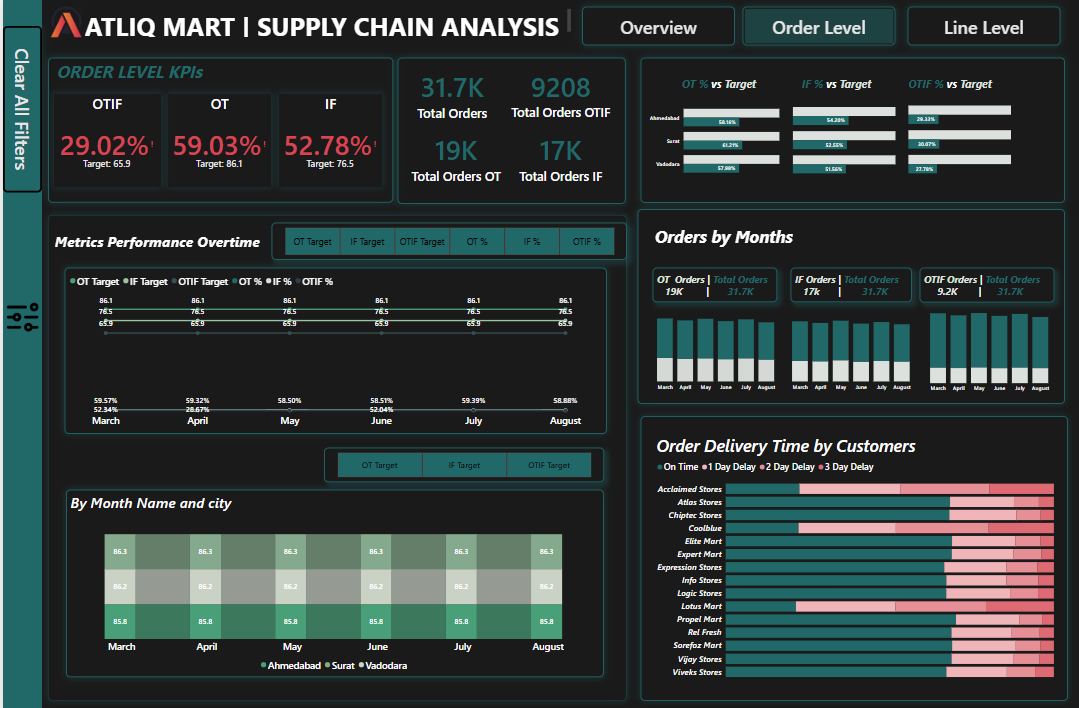

Layout of this report page (visuals, bound fields, positions):
{"tool":"powerbi","page":{"name":"Page 2","canvas":[2400,1600],"ordinal":1},"visuals":[{"type":"kpi","title":"OTIF","fields":{"TrendLine":["fact_order_lines.customer_id"],"Indicator":["DAX.OTIF %"],"Goal":["DAX.Avg OTIF Target"]},"box":[112.5,217.5,237.5,207.5],"z":0,"group":"g1"},{"type":"kpi","title":"OT ","fields":{"TrendLine":["fact_order_lines.customer_id"],"Indicator":["DAX.OT %"],"Goal":["DAX.Avg On-Time Target"]},"box":[365,217.5,230,207.5],"z":1000,"group":"g1"},{"type":"shape","box":[1410,474.4,950,433.3],"z":1000},{"type":"kpi","title":"IF","fields":{"TrendLine":["fact_order_lines.customer_id"],"Indicator":["DAX.IF %"],"Goal":["DAX.Avg In-Full Target"]},"box":[612.5,217.5,230,207.5],"z":2000,"group":"g1"},{"type":"shape","box":[100,485,1285,1080],"z":2000},{"type":"shape","box":[877.5,137.5,507.5,325],"z":3000},{"type":"card","fields":{"Values":["DAX.Total Orders"]},"box":[897.5,152.5,202.5,127.5],"z":4000},{"type":"card","fields":{"Values":["DAX.Total Orders OTIF"]},"box":[1117.5,147.5,245,140],"z":5000},{"type":"shape","box":[0,0,86.7,1600],"z":6000},{"type":"card","fields":{"Values":["DAX.Total Orders IF"]},"box":[1137.5,292.5,205,127.5],"z":7000},{"type":"card","fields":{"Values":["DAX.Total Orders OT"]},"box":[897.5,290,220,135],"z":8000},{"type":"shape","box":[100,137.5,767.5,322.5],"z":9000},{"type":"textbox","box":[112.5,137.5,355,62.5],"z":10000},{"type":"group","id":"g1","title":"Group 2","box":[112.5,217.5,730,207.5],"z":11000},{"type":"image","box":[86.7,16.7,110,80],"z":12000},{"type":"textbox","box":[176.7,21.7,1090,71.7],"z":13000},{"type":"lineChart","title":"OT Performance","fields":{"Y":["DAX.OT Target","DAX.IF Target","DAX.OTIF Target","DAX.OT %","DAX.IF %","DAX.OTIF %"],"Category":["dim_date.Month Name"]},"box":[137.5,602.5,1205,370],"z":15000},{"type":"ribbonChart","title":"By Month Name and city","fields":{"Y":["DAX.OT Target"],"Category":["dim_date.Month Name"],"Series":["dim_customers.city"]},"box":[140,1097.5,1195,417.5],"z":16000},{"type":"slicer","fields":{"Values":["Parameter 3.Parameter"]},"box":[596.7,503.3,790,83.3],"z":17000},{"type":"slicer","fields":{"Values":["Parameter 2.Parameter"]},"box":[712.5,1002.5,622.5,77.5],"z":18000},{"type":"textbox","box":[110,517.5,482.5,55],"z":19000},{"type":"shape","box":[1416.7,136.7,943.3,323.3],"z":20000},{"type":"clusteredBarChart","fields":{"Y":["DAX.OT Target","DAX.OT %"],"Category":["dim_customers.city"]},"box":[1430,216.7,300,203.3],"z":21000},{"type":"clusteredBarChart","fields":{"Category":["dim_customers.city"],"Y":["DAX.IF Target","DAX.IF %"]},"box":[1749.2,233.3,238.3,168.3],"z":22000},{"type":"clusteredBarChart","fields":{"Category":["dim_customers.city"],"Y":["DAX.OTIF Target","DAX.OTIF %"]},"box":[2006.7,230,238.3,171.7],"z":23000},{"type":"textbox","box":[1501.7,171.7,208.3,45],"z":24000},{"type":"textbox","box":[1770,173.8,173.8,42.5],"z":25000},{"type":"textbox","box":[2006.7,173.3,208.3,43.3],"z":26000},{"type":"columnChart","fields":{"Category":["dim_date.Month Name"],"Y":["DAX.Total Orders OT","DAX.Total Orders"]},"box":[1430,678.8,307.5,206.2],"z":27000},{"type":"columnChart","fields":{"Category":["dim_date.Month Name"],"Y":["DAX.Total Orders IF","DAX.Total Orders"]},"box":[1730,678.8,308.8,206.2],"z":28000},{"type":"columnChart","fields":{"Category":["dim_date.Month Name"],"Y":["DAX.Total Orders OTIF","DAX.Total Orders"]},"box":[2036.7,690,310,200],"z":29000},{"type":"textbox","box":[1442.5,602.5,277.5,77.5],"z":30000},{"type":"textbox","box":[1750,602.5,270,77.5],"z":31000},{"type":"textbox","box":[2036,602,300,78],"z":32000},{"type":"textbox","box":[1442,504,370,70],"z":33000},{"type":"shape","box":[1416.7,933.3,950,633.3],"z":34000},{"type":"hundredPercentStackedBarChart","title":"Order Delivery Time by Customers","fields":{"Category":["dim_customers.customer_name"],"Y":["DAX.On Time count","DAX.1day Delayed orders count","DAX.2 day Delayed orders count","DAX.3 day Delayed orders count"]},"box":[1446.7,973.3,893.3,556.7],"z":35000},{"type":"image","box":[0,663.3,86.7,100],"z":36000},{"type":"actionButton","box":[0,66.7,86.7,370],"z":36500},{"type":"actionButton","box":[1286.7,23.3,340,86.7],"z":38000},{"type":"actionButton","box":[1643.3,23.3,340,86.7],"z":39000},{"type":"actionButton","box":[2010,23.3,340,86.7],"z":40000}]}

Visuals, with their boxes in screenshot pixels (x1, y1, x2, y2), scaled from the page's 2400x1600 canvas onto the 1079x708 screenshot:
"OTIF" kpi: region(51, 96, 157, 188)
"OT " kpi: region(164, 96, 268, 188)
shape: region(634, 210, 1061, 402)
"IF" kpi: region(275, 96, 379, 188)
shape: region(45, 215, 623, 693)
shape: region(395, 61, 623, 205)
card - DAX.Total Orders: region(404, 67, 495, 124)
card - DAX.Total Orders OTIF: region(502, 65, 613, 127)
shape: region(0, 0, 39, 707)
card - DAX.Total Orders IF: region(511, 129, 604, 186)
card - DAX.Total Orders OT: region(404, 128, 502, 188)
shape: region(45, 61, 390, 204)
textbox: region(51, 61, 210, 88)
"Group 2" group: region(51, 96, 379, 188)
image: region(39, 7, 88, 43)
textbox: region(79, 10, 569, 41)
"OT Performance" lineChart: region(62, 267, 604, 430)
"By Month Name and city" ribbonChart: region(63, 486, 600, 670)
slicer - Parameter 3.Parameter: region(268, 223, 623, 260)
slicer - Parameter 2.Parameter: region(320, 444, 600, 478)
textbox: region(49, 229, 266, 253)
shape: region(637, 60, 1061, 204)
clusteredBarChart - DAX.OT Target x DAX.OT %: region(643, 96, 778, 186)
clusteredBarChart - dim_customers.city x DAX.IF Target: region(786, 103, 894, 178)
clusteredBarChart - dim_customers.city x DAX.OTIF Target: region(902, 102, 1009, 178)
textbox: region(675, 76, 769, 96)
textbox: region(796, 77, 874, 96)
textbox: region(902, 77, 996, 96)
columnChart - dim_date.Month Name x DAX.Total Orders OT: region(643, 300, 781, 392)
columnChart - dim_date.Month Name x DAX.Total Orders IF: region(778, 300, 917, 392)
columnChart - dim_date.Month Name x DAX.Total Orders OTIF: region(916, 305, 1055, 394)
textbox: region(649, 267, 773, 301)
textbox: region(787, 267, 908, 301)
textbox: region(915, 266, 1050, 301)
textbox: region(648, 223, 815, 254)
shape: region(637, 413, 1064, 693)
"Order Delivery Time by Customers" hundredPercentStackedBarChart: region(650, 431, 1052, 677)
image: region(0, 294, 39, 338)
actionButton: region(0, 30, 39, 193)
actionButton: region(578, 10, 731, 49)
actionButton: region(739, 10, 892, 49)
actionButton: region(904, 10, 1057, 49)
